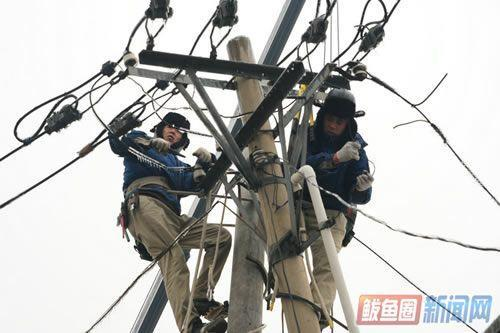head: (320, 87, 358, 140)
helmet: (152, 110, 191, 146)
